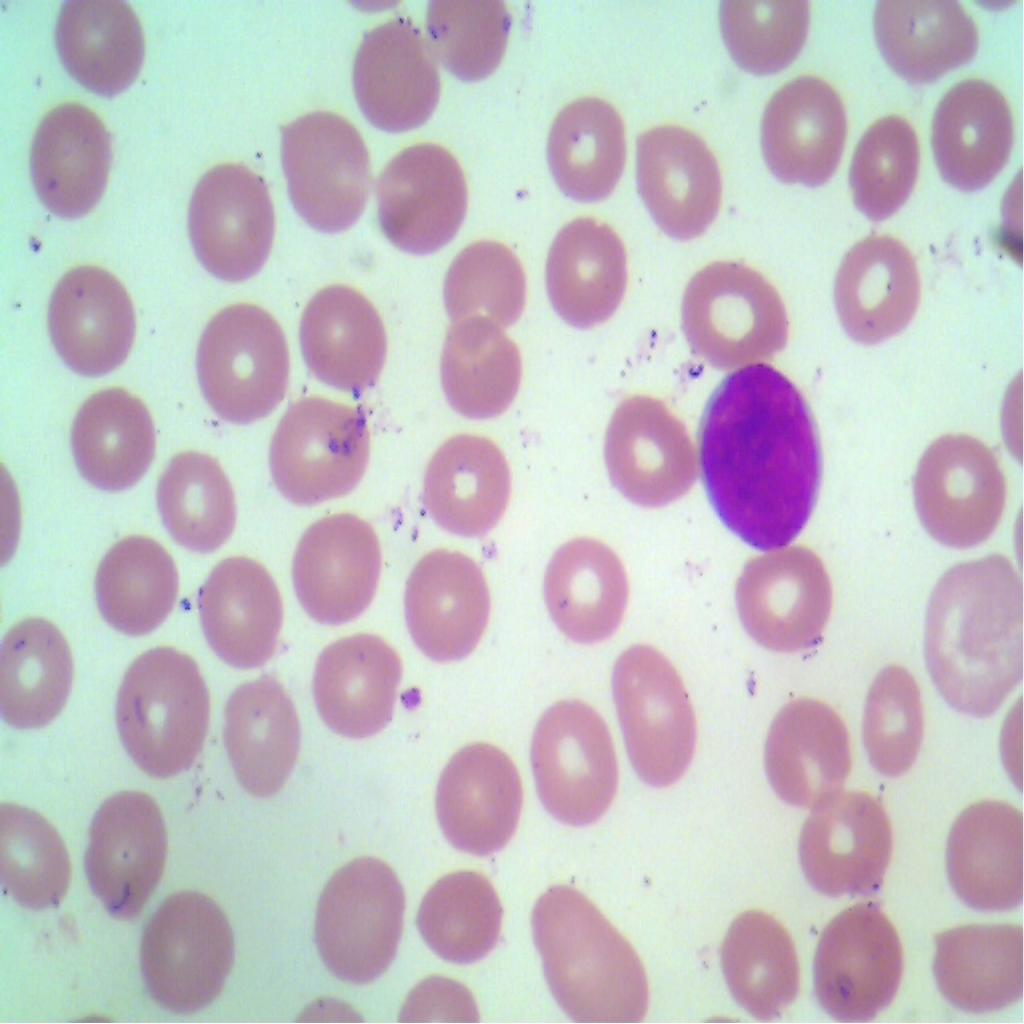Eritrosit: (294, 847, 415, 1002), (916, 552, 1023, 724), (526, 878, 646, 1023), (366, 117, 474, 272), (674, 239, 794, 371), (116, 634, 213, 792), (521, 701, 628, 844), (173, 154, 283, 290), (608, 639, 706, 790), (730, 542, 846, 669), (909, 424, 1018, 559), (261, 385, 373, 514), (139, 884, 243, 1022), (626, 120, 734, 250), (18, 98, 121, 234), (751, 70, 855, 202), (753, 684, 853, 820), (282, 504, 386, 634), (80, 787, 174, 927), (300, 268, 398, 402), (804, 894, 903, 1023), (539, 204, 634, 337), (46, 260, 152, 379), (198, 291, 291, 426), (424, 731, 526, 854), (398, 544, 496, 671), (64, 378, 161, 506), (184, 548, 288, 666), (828, 218, 923, 344), (918, 911, 1024, 1023), (86, 521, 184, 641), (218, 666, 304, 801), (711, 888, 799, 1018), (151, 445, 246, 565), (271, 115, 371, 228), (936, 785, 1023, 914), (602, 394, 696, 511), (49, 0, 153, 105), (436, 318, 534, 429), (422, 432, 515, 548), (928, 78, 1016, 200), (539, 536, 633, 650), (309, 630, 398, 749), (354, 20, 446, 132), (868, 0, 986, 87), (416, 854, 506, 968), (840, 103, 926, 222), (0, 614, 78, 744), (0, 790, 78, 920), (795, 793, 895, 894), (858, 652, 926, 798), (539, 88, 626, 200), (426, 0, 518, 97), (444, 237, 530, 335)
Limfoblast: (696, 346, 829, 554)
Platelet: (384, 676, 431, 726)
